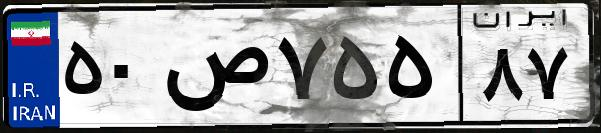0: (110, 28, 158, 98)
5: (385, 28, 445, 110), (330, 28, 385, 110), (57, 26, 110, 100)
7: (270, 28, 330, 110), (525, 38, 570, 115)
8: (475, 38, 525, 113)
ص: (158, 20, 270, 120)
